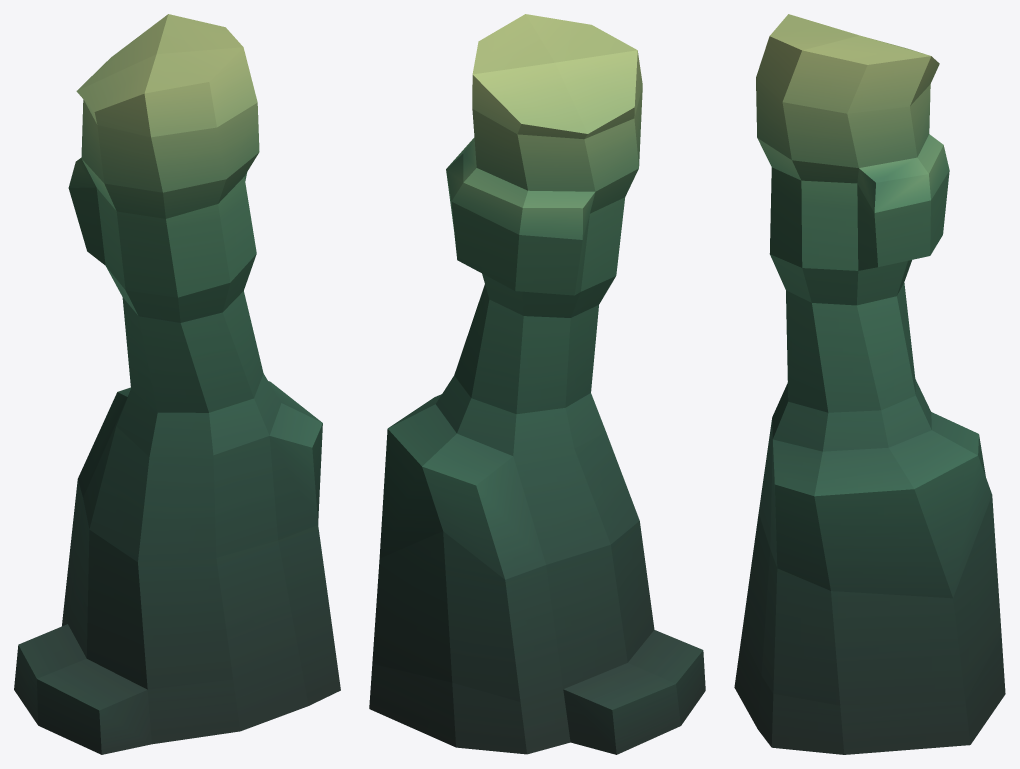
Rendered from SM_Rock_01.fbx.
3 views of the same model, side by side, from view 1: azimuth 30°, elevation 25°; view 2: azimuth 150°, elevation 25°; view 3: azimuth 270°, elevation 25° (orthographic).
Visible parts, largest first — view 1: SM_Rock_01; view 2: SM_Rock_01; view 3: SM_Rock_01.
Boxes of the visible parts, x1,y1,x2,y2 form: SM_Rock_01: (14, 14, 340, 754); SM_Rock_01: (369, 14, 705, 754); SM_Rock_01: (734, 14, 1005, 754).
Size of the model in its own units: 297 by 668 by 249.
Materials: 1 (1 with a texture image).
